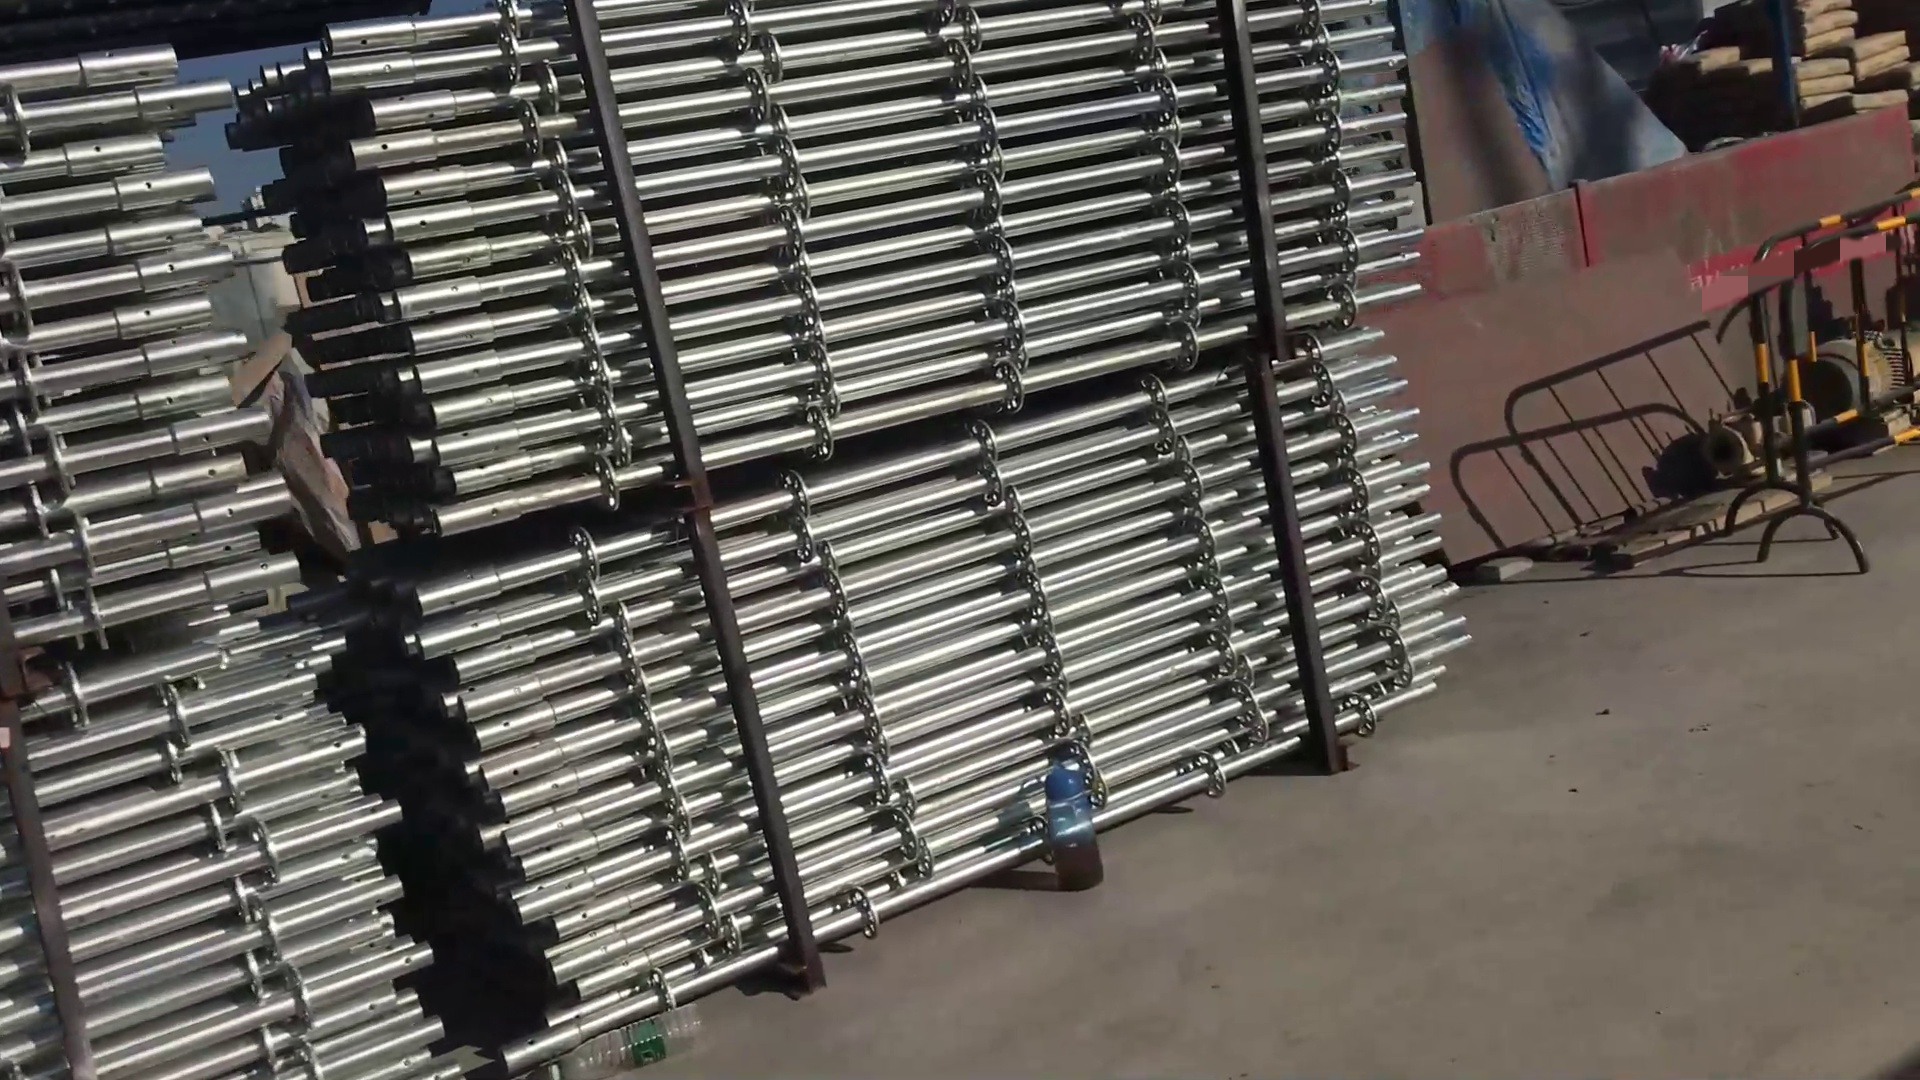fence: (1458, 103, 1900, 556), (1742, 185, 1920, 575)
scaffold: (297, 12, 1478, 953), (1, 26, 407, 1080)
